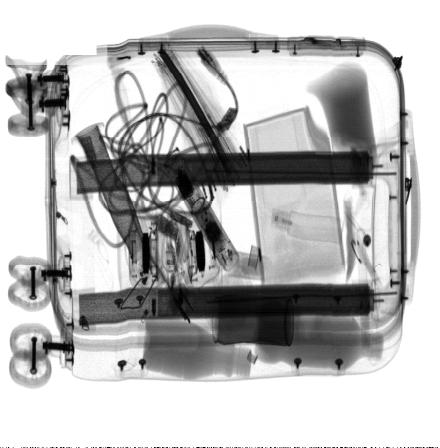Baton: (162, 152, 239, 272)
